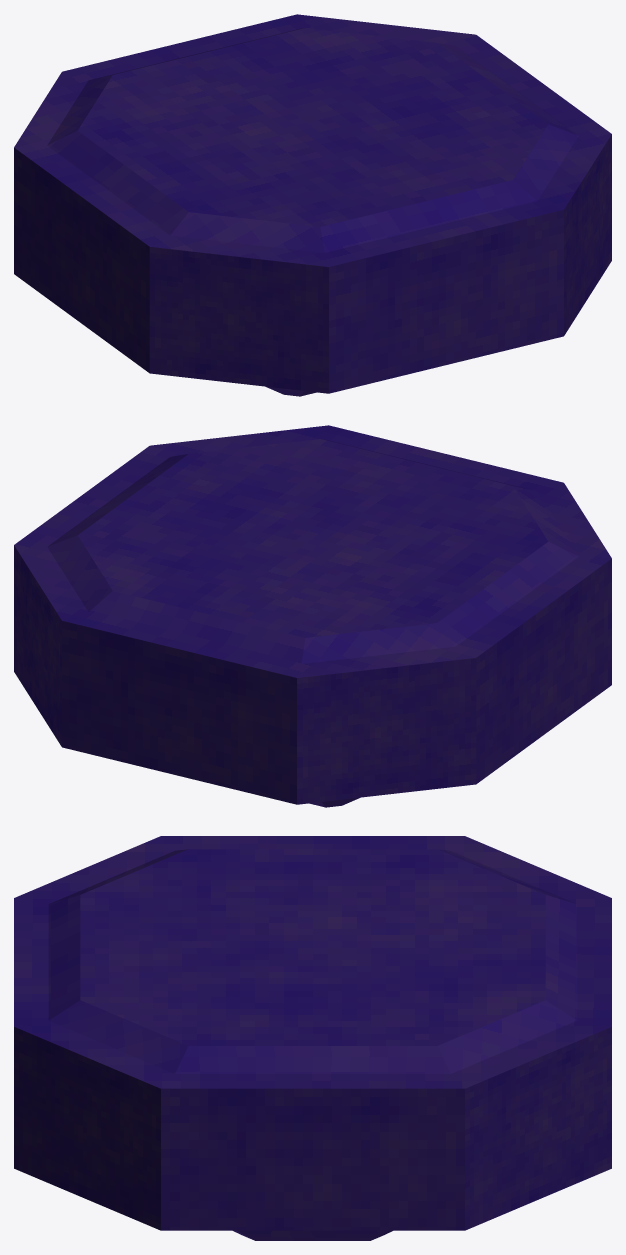
Rendered from Platform.fbx.
3 renders of one model, top to bottom at view 1: azimuth 30°, elevation 25°; view 2: azimuth 150°, elevation 25°; view 3: azimuth 270°, elevation 25°, orthographic. The views are drawn at different scales.
Parts seen in each view (by area): view 1: Platform; view 2: Platform; view 3: Platform.
Boxes of the visible parts, <box> form: Platform: <box>14,14,611,396</box>; Platform: <box>14,425,611,807</box>; Platform: <box>14,836,611,1240</box>.
Bounding box in the file's own units: 595 × 289 × 595.
